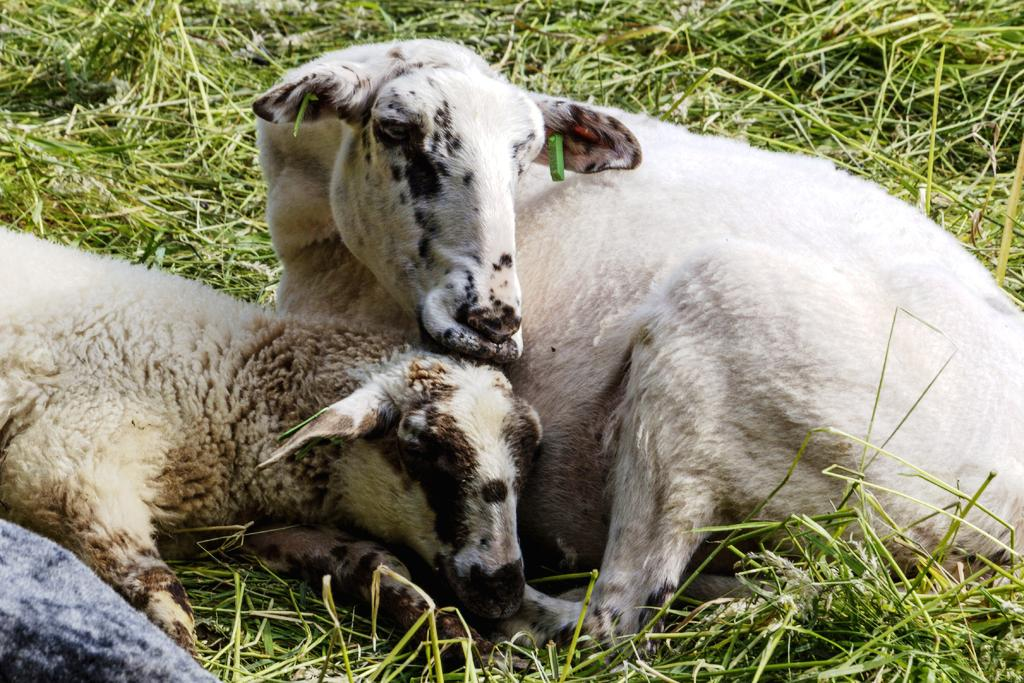Sheep: (253, 27, 1024, 655), (0, 214, 547, 683)
